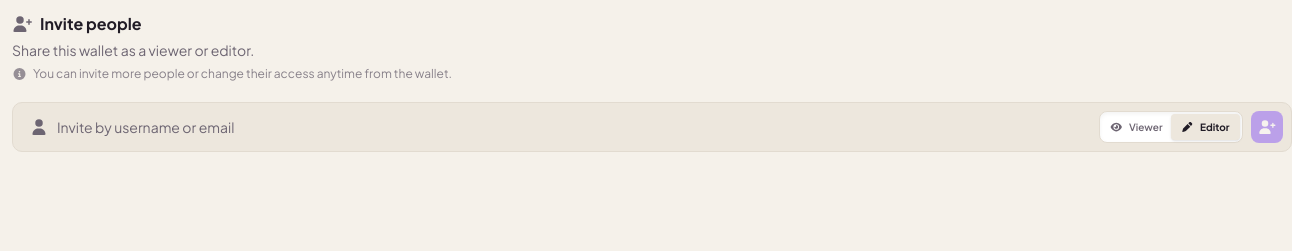
Test: InvitesStep › clears the input after adding
This screenshot has width=1292, height=251.
Step 1. Type "carol" into the field labelled "Invite by username or email" → (570, 127), box [57, 113, 1083, 141]
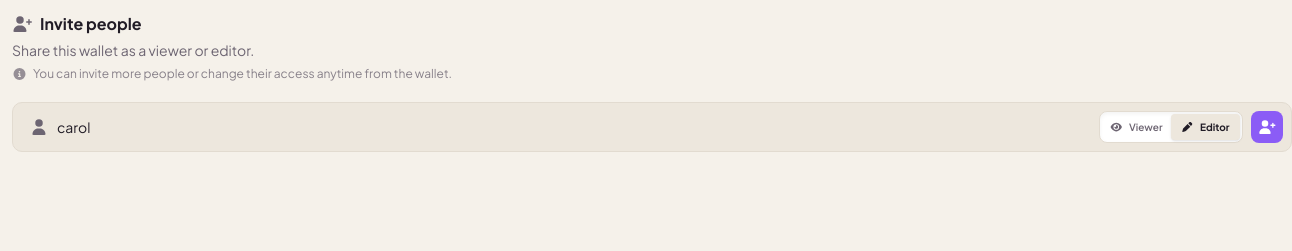
Step 2. Click the button named "Add" → (1267, 127), box [1251, 111, 1283, 143]
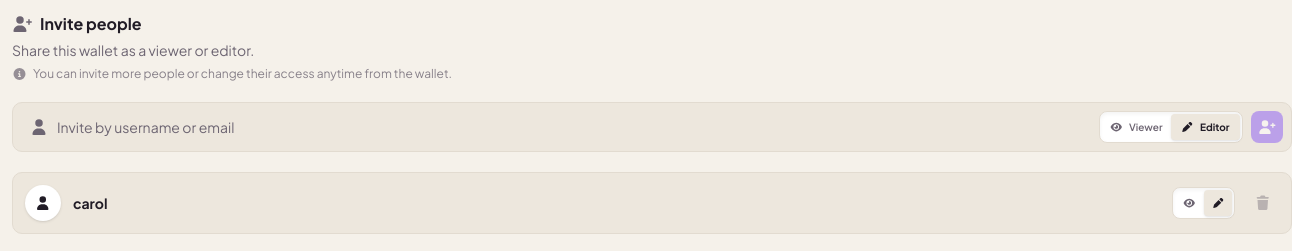
Result: the field labelled "Invite by username or email" is empty at [57, 113, 1083, 141]
Result: the text "carol" is shown at [73, 194, 108, 212]
